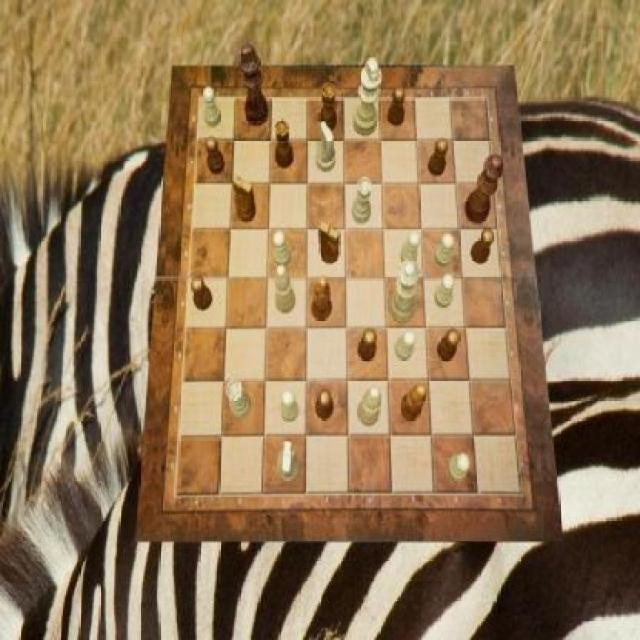bishop: (310, 275, 332, 321), (400, 385, 427, 422)
black-bishop: (238, 45, 268, 126)
black-king: (232, 176, 256, 222), (318, 221, 339, 264)
black-knight: (470, 229, 494, 264), (437, 329, 460, 363), (190, 275, 212, 310), (206, 137, 226, 175), (428, 137, 448, 175), (388, 86, 405, 126), (358, 329, 378, 362), (316, 389, 334, 420)
black-pawn: (464, 156, 504, 224)
black-queen: (276, 120, 294, 169), (319, 83, 336, 132)
black-rook: (276, 266, 296, 316), (358, 388, 382, 428)
white-bishop: (354, 57, 383, 135)
white-king: (317, 121, 337, 174), (277, 442, 300, 483)
white-knight: (400, 231, 421, 268), (203, 86, 221, 128), (272, 232, 292, 268), (395, 329, 418, 360), (436, 272, 456, 307), (434, 232, 454, 267), (280, 389, 299, 423), (448, 454, 470, 481)
white-pawn: (389, 260, 419, 322)
white-queen: (226, 380, 251, 420), (352, 177, 372, 225)
